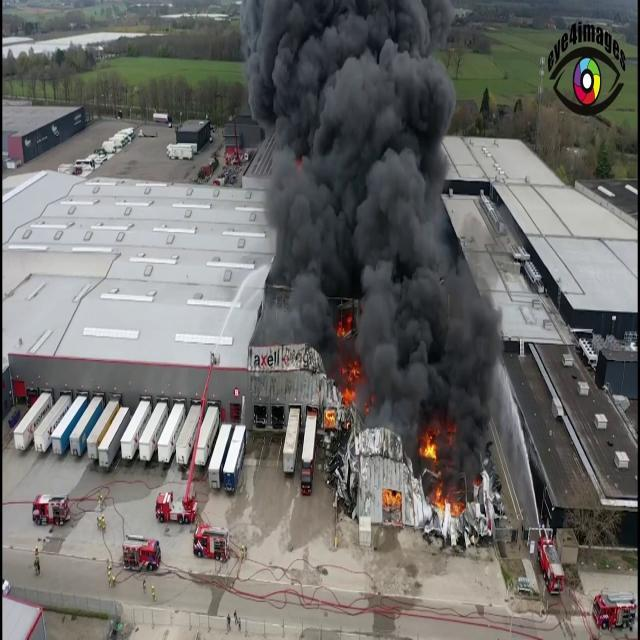Fire: (420, 428, 464, 516)
Smoke: (239, 0, 514, 444)
